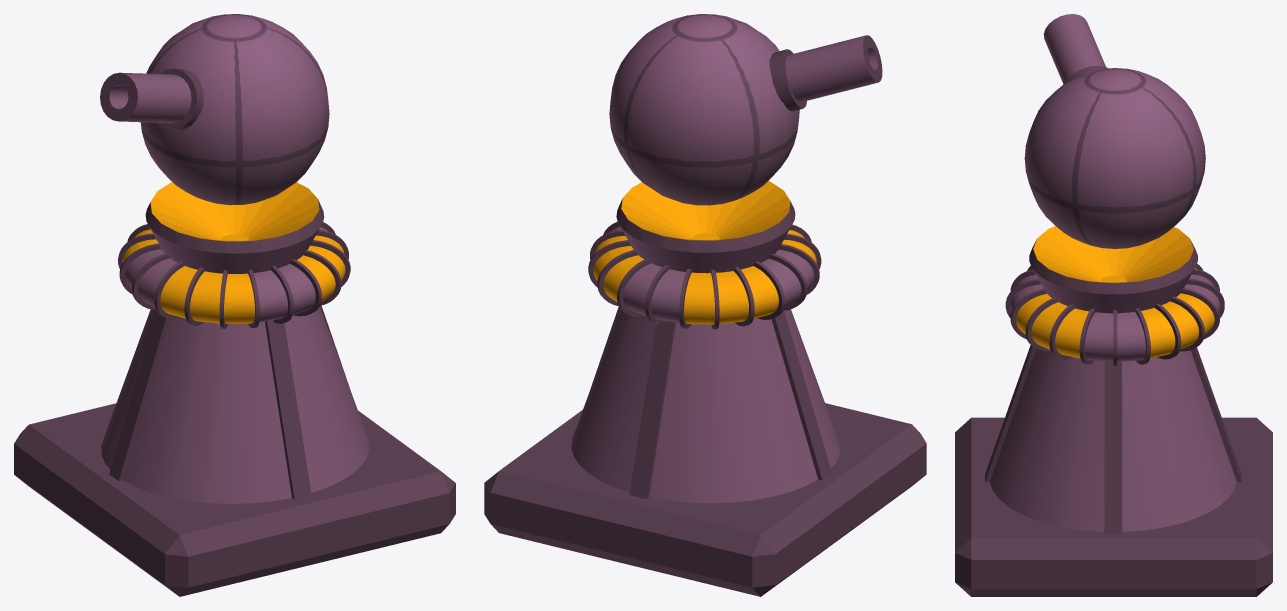
File: finalturret.fbx
The picture shows the model from 3 angles, left to right: view 1: azimuth 30°, elevation 25°; view 2: azimuth 150°, elevation 25°; view 3: azimuth 270°, elevation 25°; orthographic projection. The views are drawn at different scales.
Parts seen in each view (by area): view 1: pCone3; view 2: pCone3; view 3: pCone3.
Boxes of the visible parts, <box> form: pCone3: <box>14,14,455,596</box>; pCone3: <box>484,14,926,596</box>; pCone3: <box>955,14,1272,596</box>.
Size of the model in its own units: 3.58 by 5.61 by 3.51.
5 materials, 1 textured.
